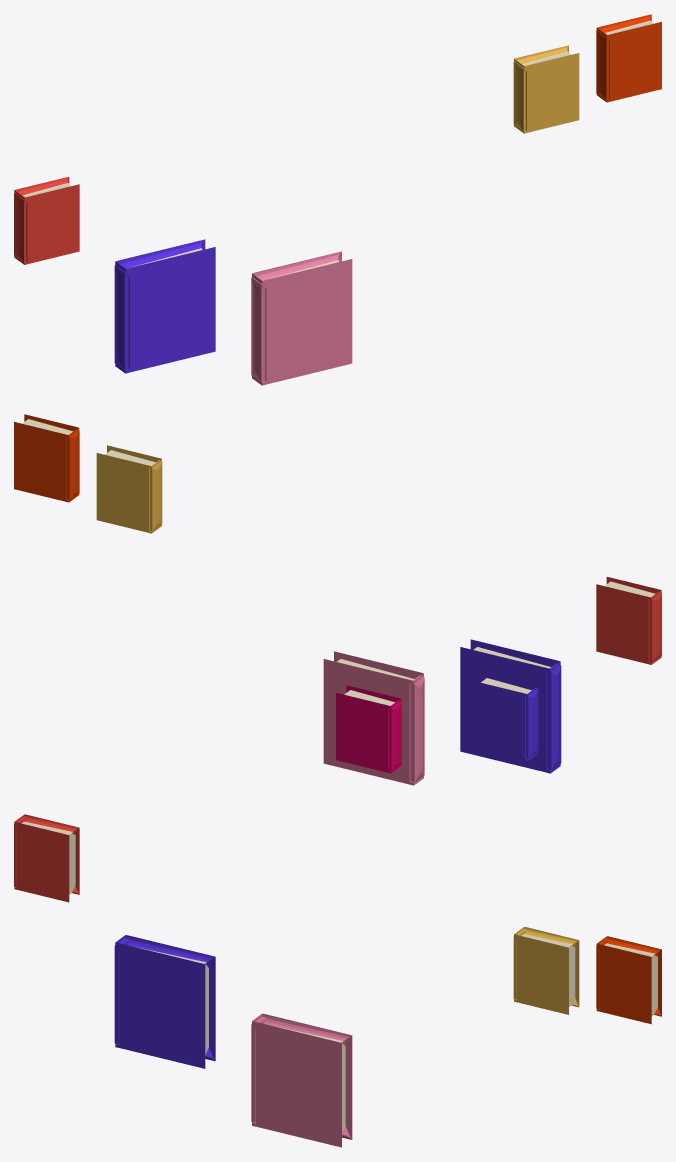
Rendered from libros.fbx.
The picture shows the model from 3 angles, top to bottom: view 1: azimuth 30°, elevation 25°; view 2: azimuth 150°, elevation 25°; view 3: azimuth 330°, elevation 25°; orthographic projection.
Visible parts, largest first — view 1: Hojas.016; view 2: Hojas.016; view 3: Hojas.016.
Boxes of the visible parts, x1,y1,x2,y2 form: Hojas.016: (14,14,661,385); Hojas.016: (14,414,661,785); Hojas.016: (14,814,661,1147).
Size of the model in its own units: 0.2679 by 0.1068 by 0.0154.
